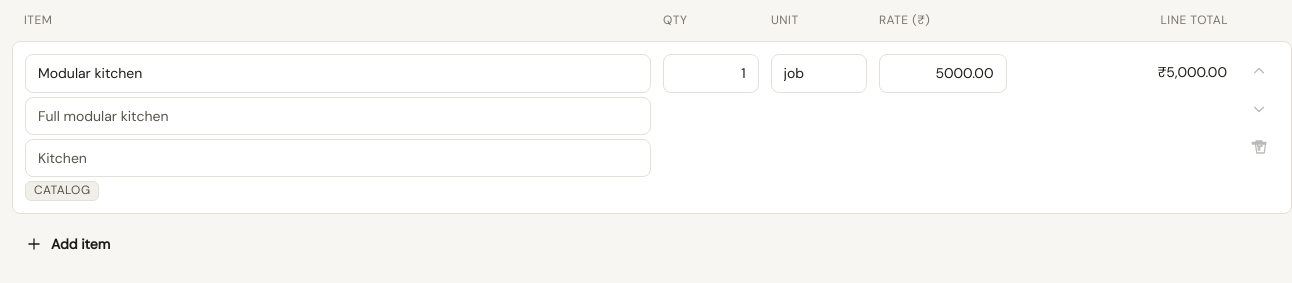
Test case: ItemsEditor — catalogue provenance (S7/S8) › offers the snapshot once the rate is edited, and keeps the marker
Replace the text in the field named "Item 1 rate in rupees" with "600" at (942, 74), box [878,54,1006,93]
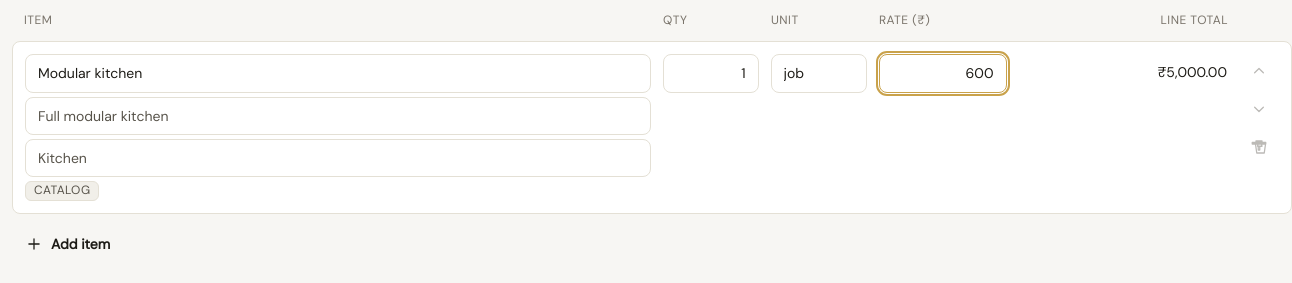
The rate input commits on blur, so the hint can only appear after it.
Press Tab
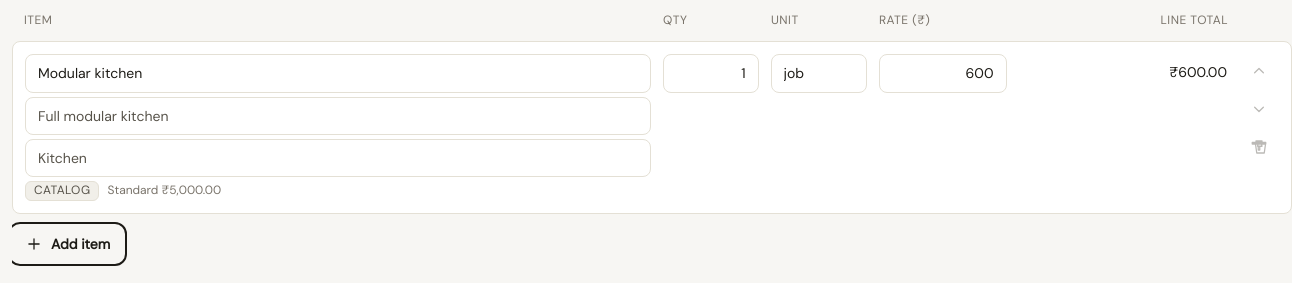
Expected: the text "Catalog" is shown, [25,181,100,201]
Expected: the text "Standard ₹5,000.00" is shown, [108,182,221,200]
